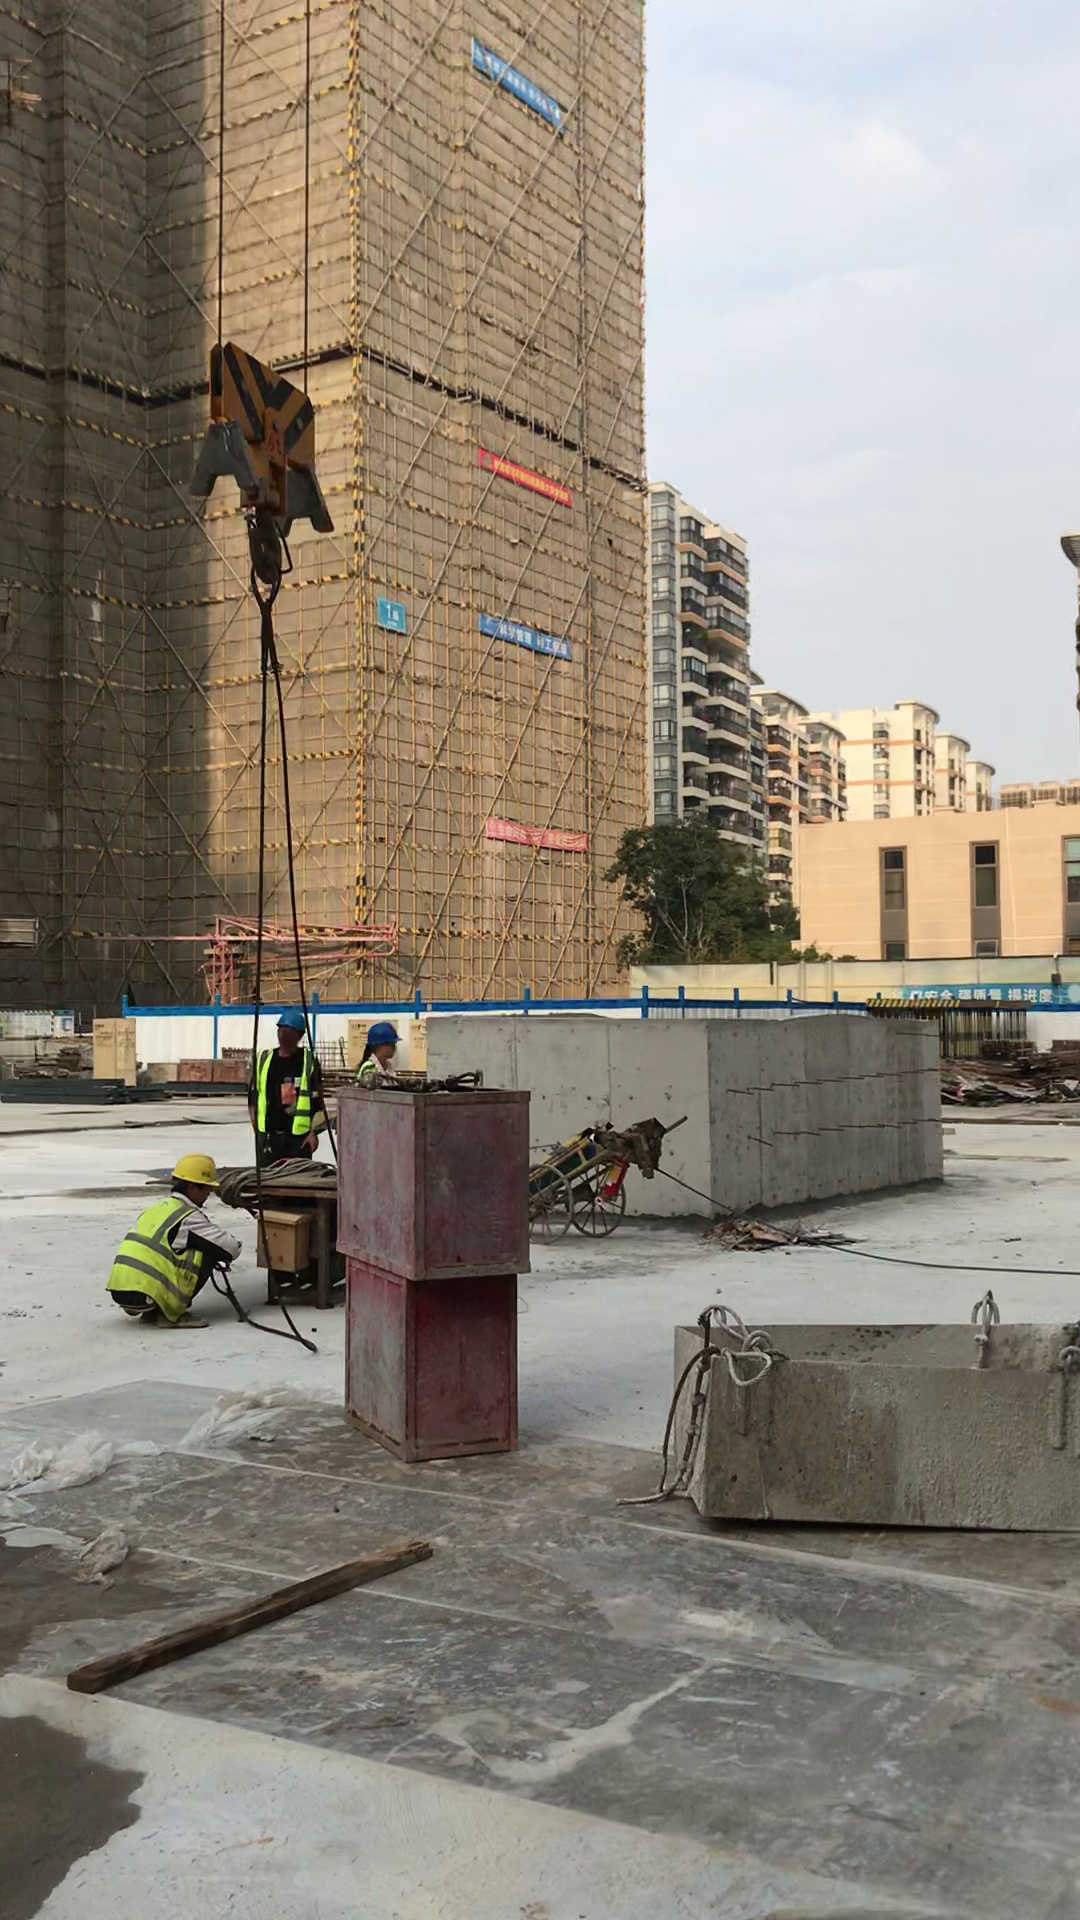ebox: (242, 1208, 313, 1279)
handcart: (520, 1107, 702, 1274)
helmet: (165, 1148, 230, 1192), (363, 1017, 408, 1050), (272, 1005, 316, 1035)
hook: (160, 322, 426, 656)
hopper: (619, 1288, 1080, 1594)
person: (103, 1136, 249, 1356), (243, 1009, 338, 1177), (351, 1002, 424, 1088)
slogan: (461, 33, 578, 133), (465, 435, 582, 524), (891, 975, 1080, 1018), (467, 809, 599, 862), (472, 605, 584, 669), (365, 590, 414, 648)
vest: (103, 1190, 216, 1315), (246, 1041, 320, 1144), (353, 1048, 387, 1085)
